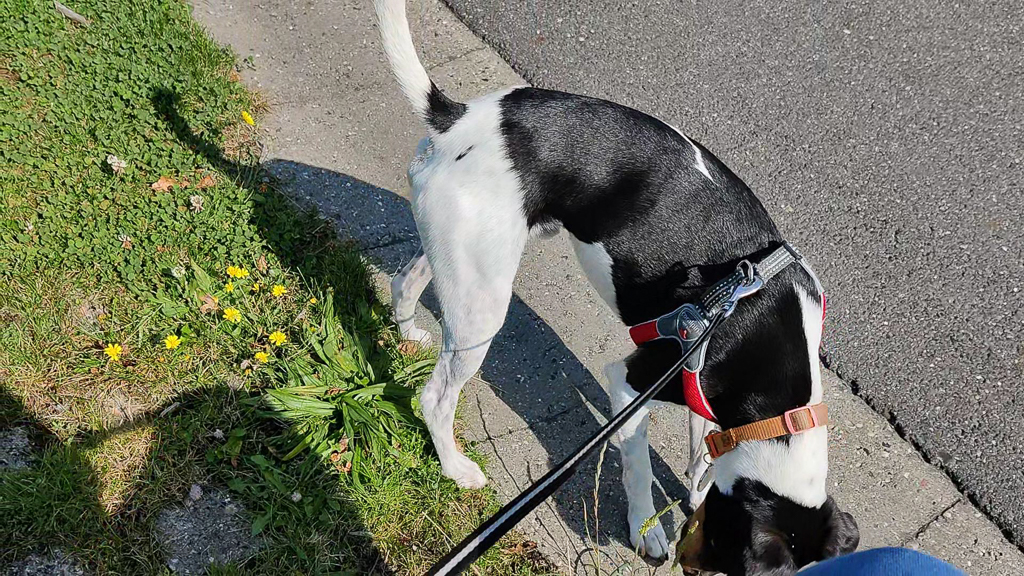Dog: (370, 0, 869, 576)
Humanoid: (781, 529, 982, 576)
